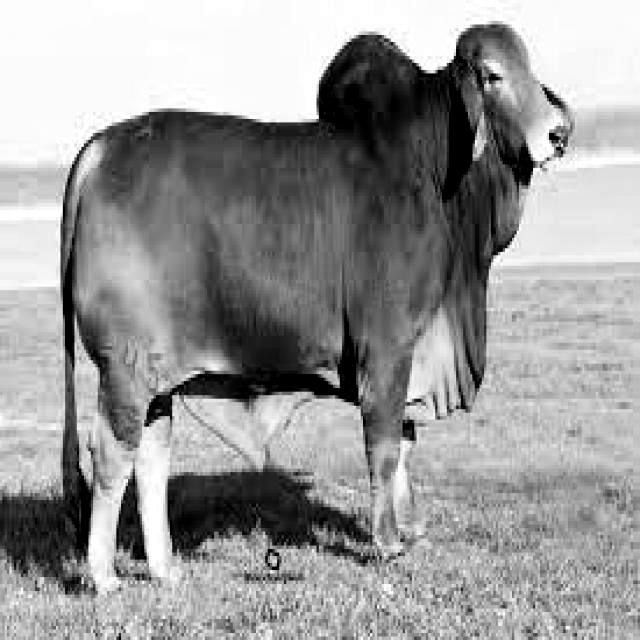COW: (61, 24, 574, 591)
